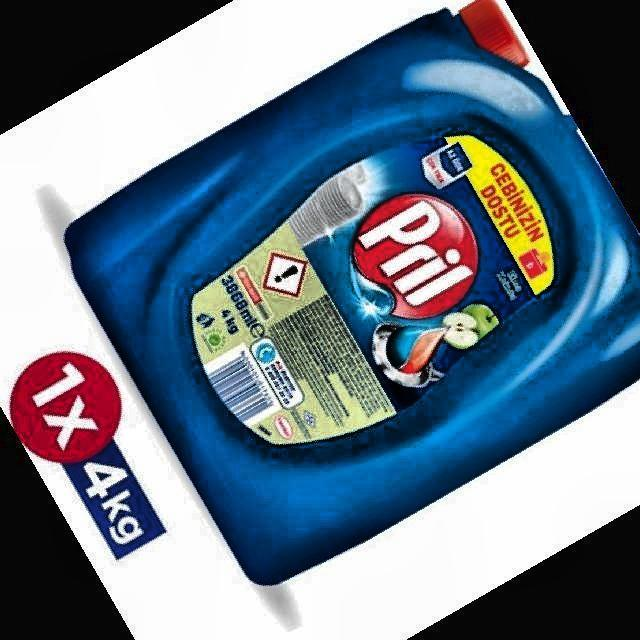plastic: (65, 0, 639, 584)
